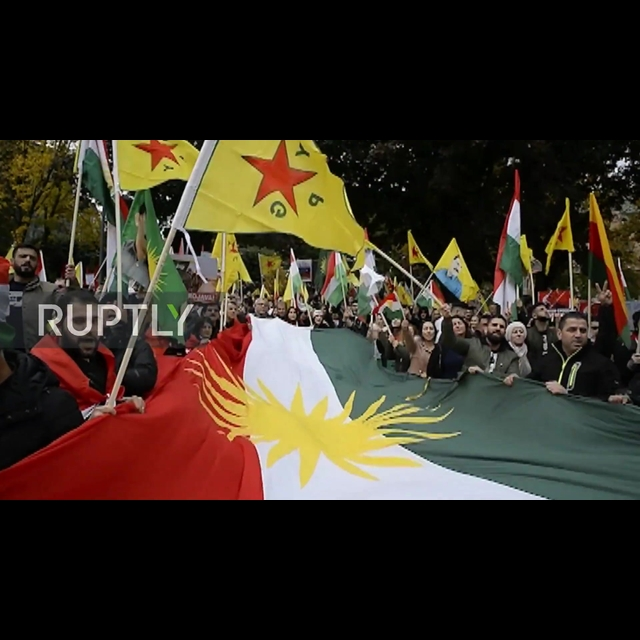IBKY: (173, 343, 469, 482)
YPG: (238, 141, 328, 223)
